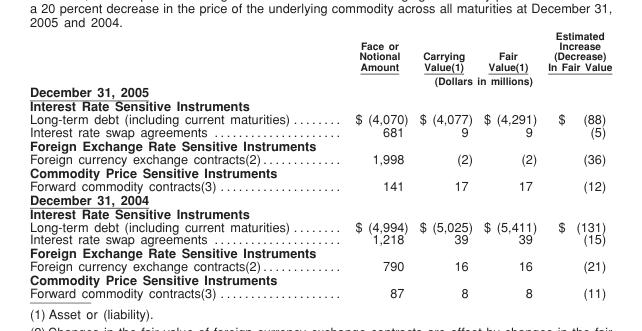table: (28, 29, 611, 299)
table column: (28, 29, 321, 299), (321, 29, 413, 299), (541, 29, 611, 299), (413, 29, 477, 299), (477, 29, 541, 299)
table column header: (28, 29, 611, 85)
table projected row header: (28, 98, 611, 112), (28, 192, 611, 206), (28, 245, 611, 259), (28, 85, 611, 98), (28, 138, 611, 151), (28, 165, 611, 178), (28, 206, 611, 219), (28, 272, 611, 285)
table row: (28, 29, 611, 72), (28, 98, 611, 112), (28, 151, 611, 165), (28, 178, 611, 192), (28, 192, 611, 206), (28, 245, 611, 259), (28, 285, 611, 299), (28, 72, 611, 85), (28, 85, 611, 98), (28, 112, 611, 125), (28, 125, 611, 138), (28, 138, 611, 151), (28, 165, 611, 178), (28, 206, 611, 219), (28, 219, 611, 232), (28, 232, 611, 245), (28, 259, 611, 272), (28, 272, 611, 285)
table spanning cell: (321, 72, 611, 85)
